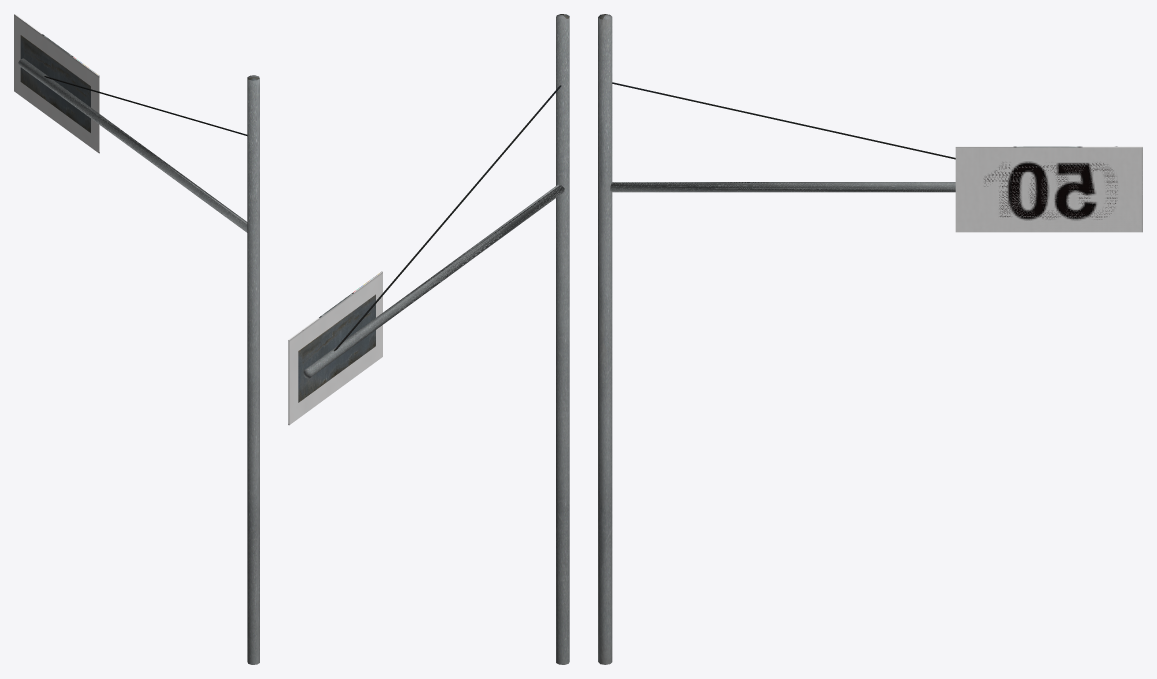
The model's file is SignPlate-L-(100).fbx.
3 renders of one model, left to right at view 1: azimuth 30°, elevation 25°; view 2: azimuth 150°, elevation 25°; view 3: azimuth 270°, elevation 25°, orthographic. The views are drawn at different scales.
Parts seen in each view (by area): view 1: Plate; view 2: Plate; view 3: Plate.
Boxes of the visible parts, bbox=[...] form: Plate: bbox=[14, 14, 259, 664]; Plate: bbox=[288, 14, 569, 664]; Plate: bbox=[598, 14, 1142, 664].
Size of the model in its own units: 13.66 by 682 by 521.
